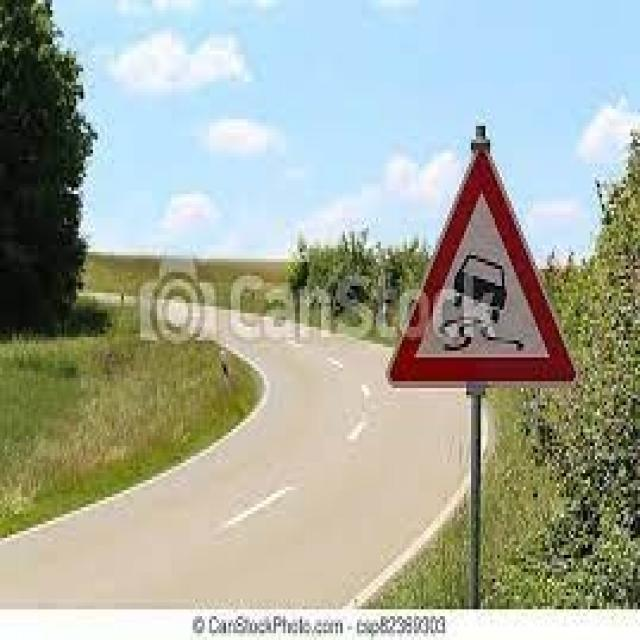road_slippery: (382, 148, 582, 394)
